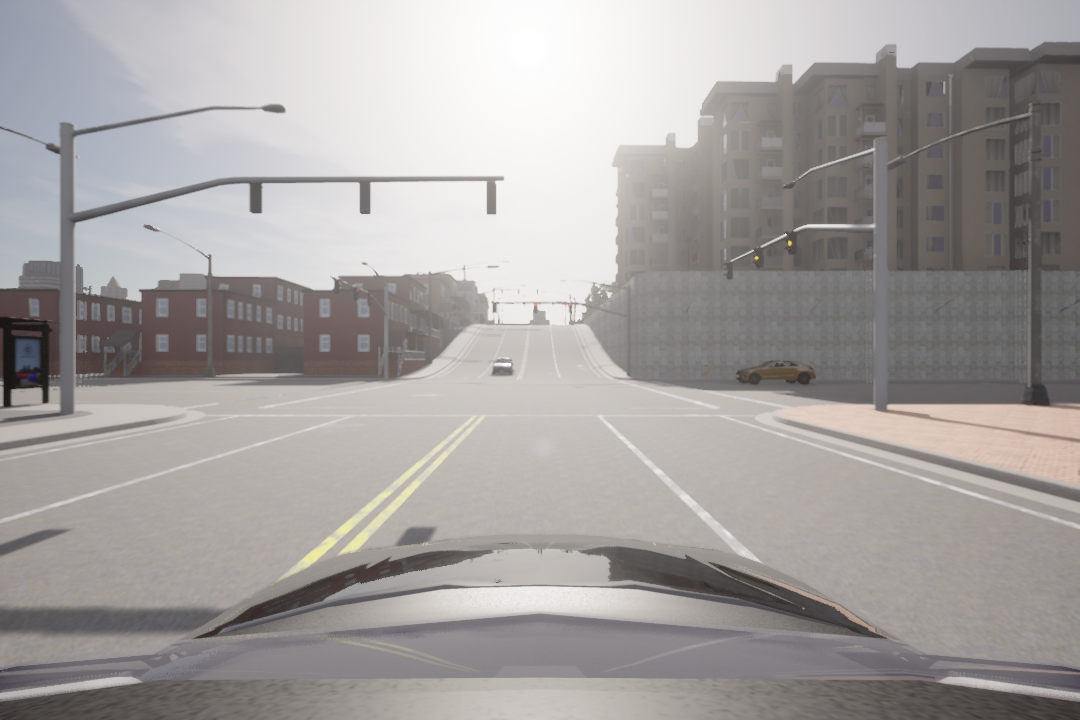TrafficLight: (748, 244, 767, 272), (784, 231, 800, 258), (721, 259, 734, 283)
